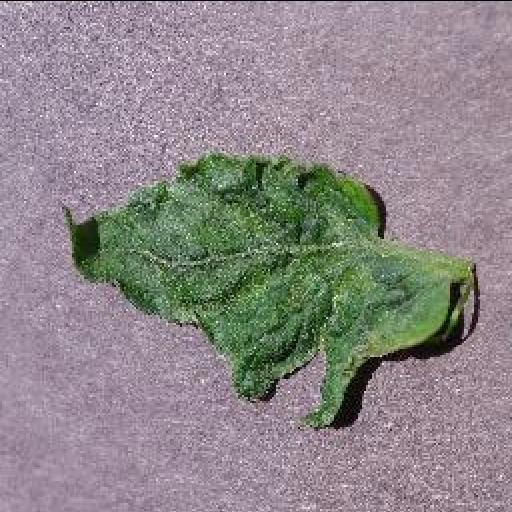Mosaic Virus: (52, 150, 448, 430)
